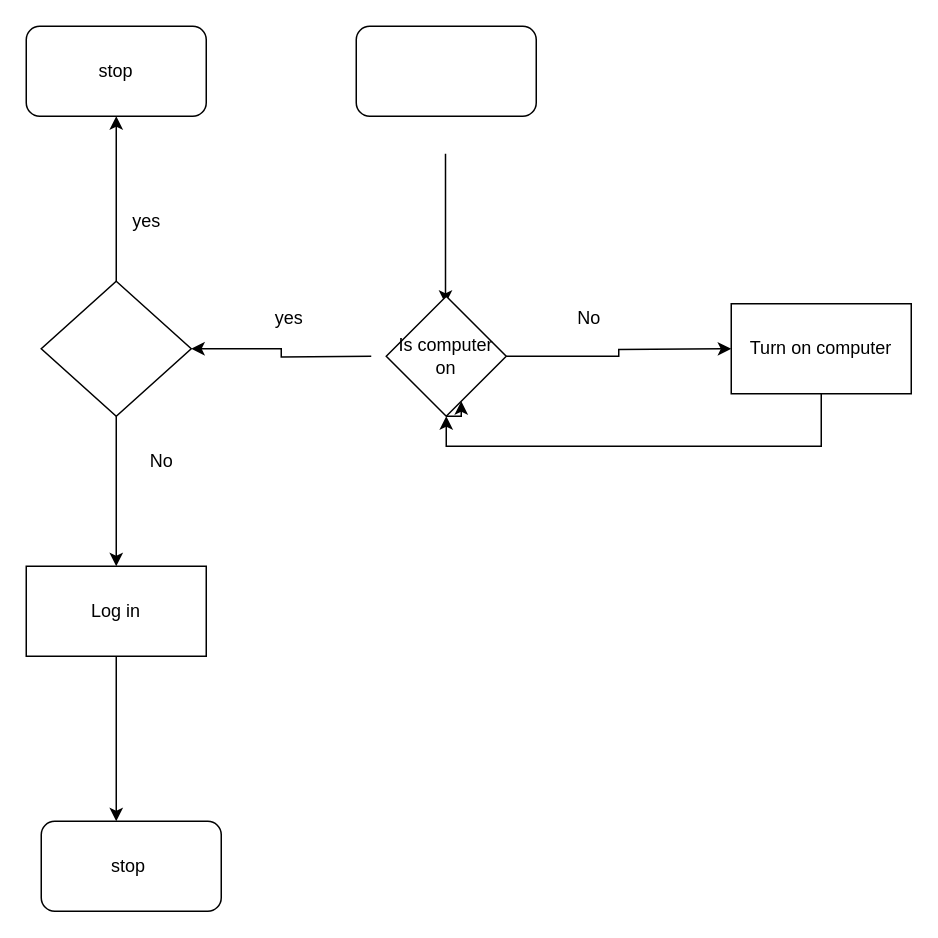
The diagram is 938 pixels wide and 938 high, and some of its shapes have lost their labels. The centre of each missing label's shape, as x and y in pixels:
"Are you Logged in" goes at [115,348].
"Start" goes at [445,70].
